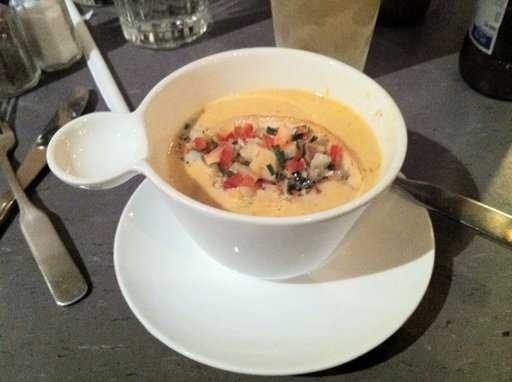soup: (183, 85, 385, 215)
